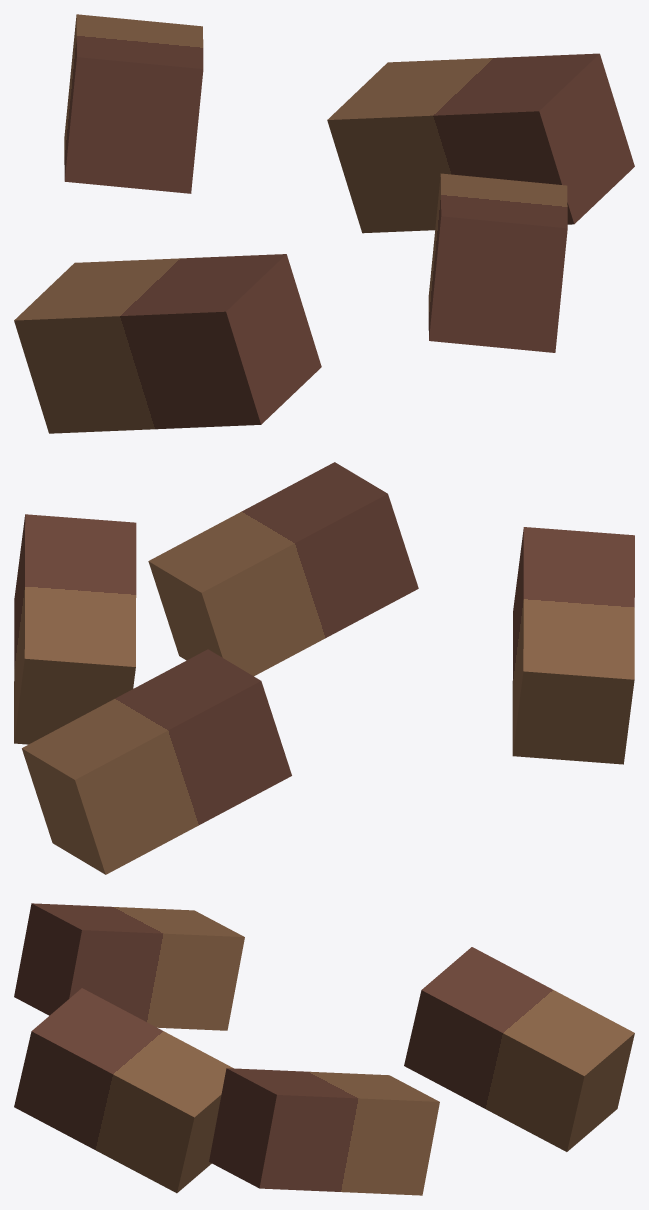
Rendered from carrot-seeds.gltf.
3 views of the same model, one above another, from view 1: azimuth 30°, elevation 25°; view 2: azimuth 150°, elevation 25°; view 3: azimuth 270°, elevation 25° (orthographic). The views are drawn at different scales.
Parts seen in each view (by area): view 1: cube (×4); view 2: cube (×4); view 3: cube (×4).
Part boxes in pixels (x1=…): cube (×4): x1=14, y1=14, x2=634, y2=433; cube (×4): x1=14, y1=462, x2=634, y2=874; cube (×4): x1=14, y1=903, x2=634, y2=1195.
Bounding box in the file's own units: 0.3767 × 0.0989 × 0.3981.
Materials: 1 (1 with a texture image).
